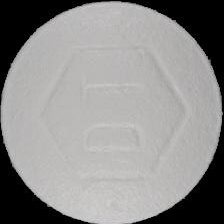50419-409: (0, 0, 224, 224)
